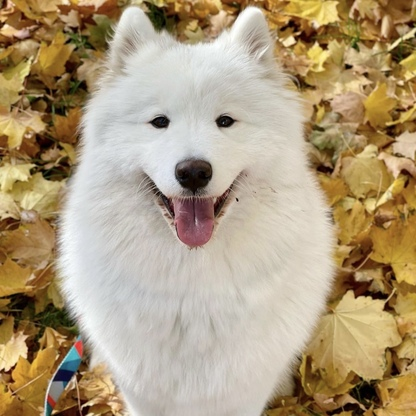samoyed: (52, 4, 346, 416)
